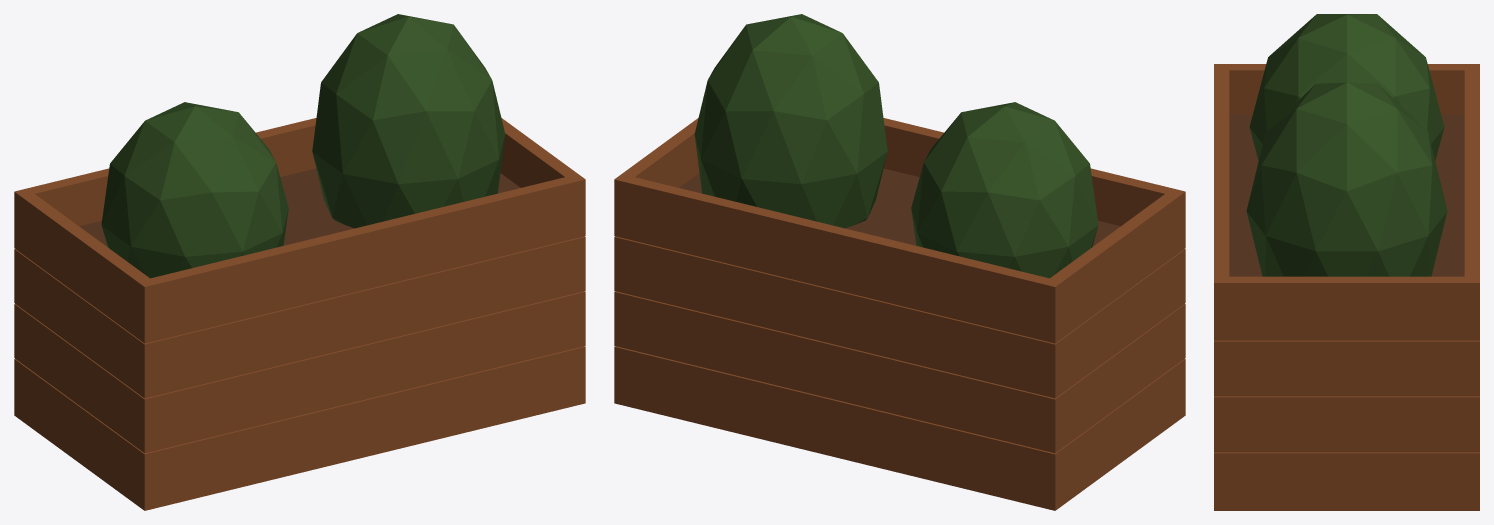
File: Bushes_3.fbx
The picture shows the model from 3 angles, left to right: view 1: azimuth 30°, elevation 25°; view 2: azimuth 150°, elevation 25°; view 3: azimuth 270°, elevation 25°; orthographic projection.
Visible parts, largest first — view 1: Bushes_3; view 2: Bushes_3; view 3: Bushes_3.
Boxes of the visible parts, x1=… form: Bushes_3: x1=14, y1=14, x2=585, y2=510; Bushes_3: x1=614, y1=14, x2=1185, y2=510; Bushes_3: x1=1214, y1=14, x2=1479, y2=510.
Size of the model in its own units: 117 by 93.22 by 60.21.
